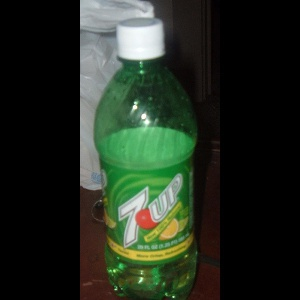emptybottle: (93, 16, 198, 300)
